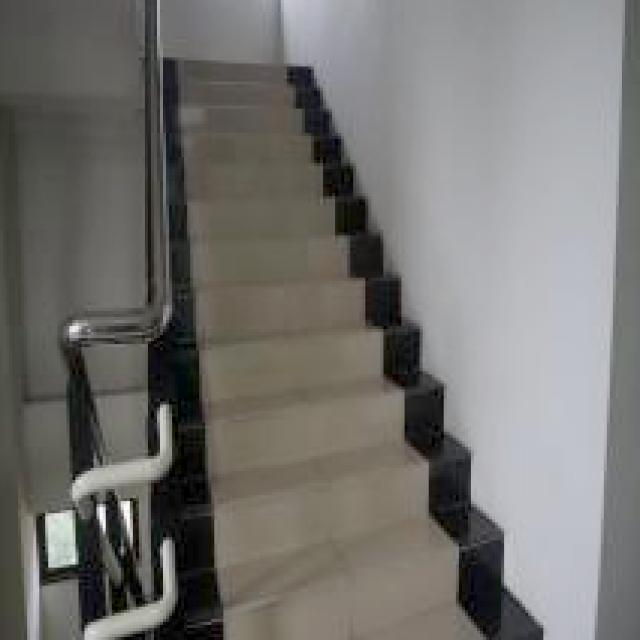upstair: (164, 85, 463, 640)
